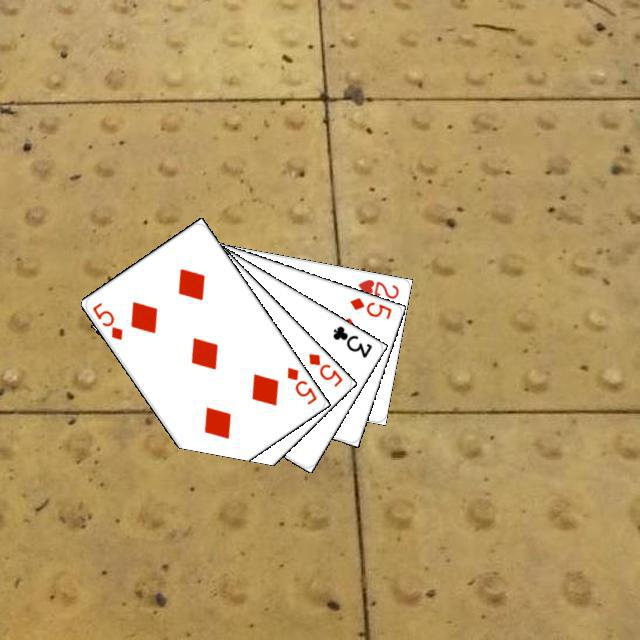2h: (353, 274, 401, 301)
3c: (328, 321, 374, 360)
5d: (303, 348, 344, 389), (87, 297, 124, 342), (282, 362, 318, 406), (345, 292, 393, 321)
